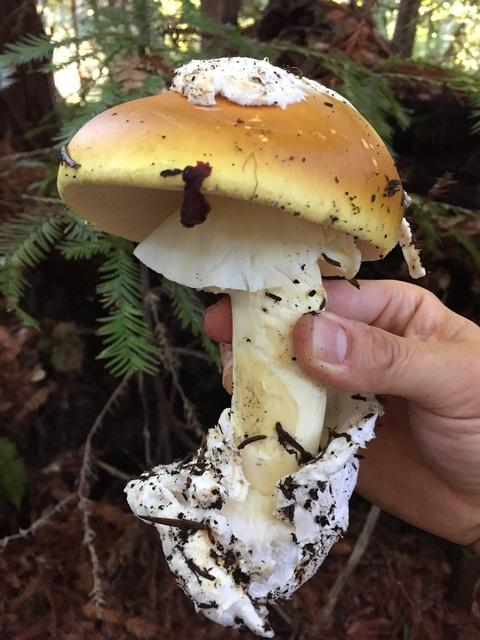edible_mushroom: (55, 54, 426, 635)
